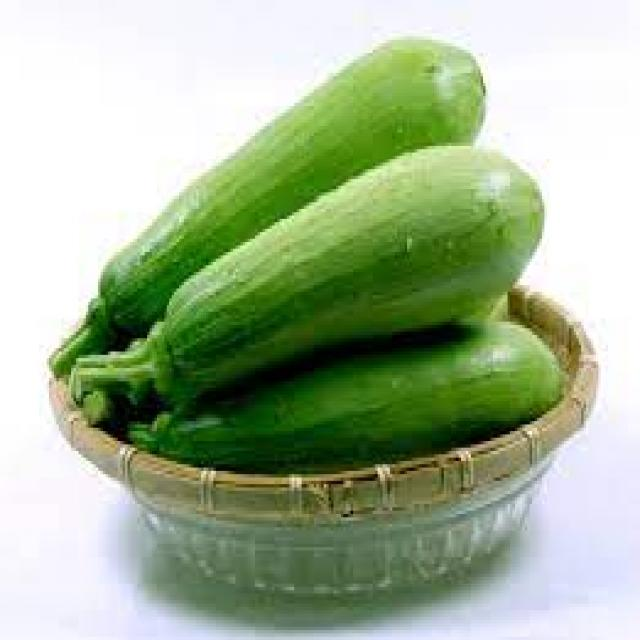yogurt: (51, 40, 488, 375), (71, 146, 544, 408)
